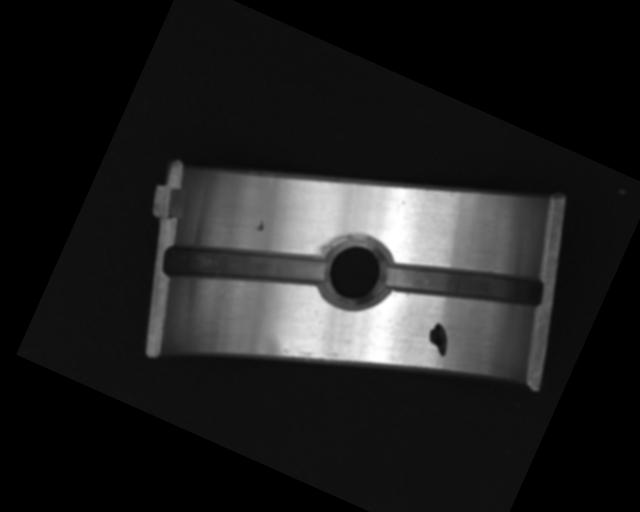blot: (422, 320, 457, 357)
bruise: (255, 219, 266, 233)
gap: (161, 200, 330, 331), (383, 221, 550, 345)
hole: (311, 224, 402, 318)
